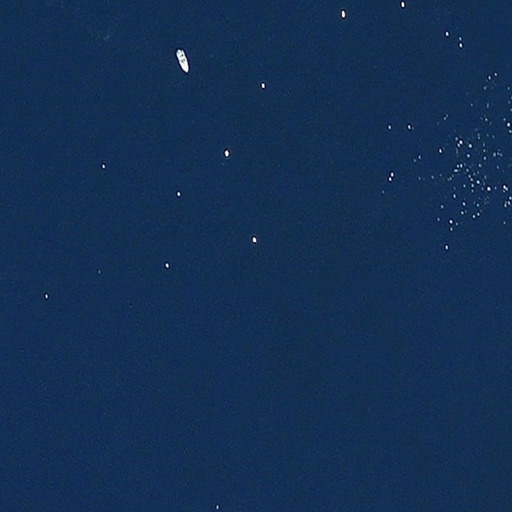ship: (174, 46, 192, 78)
